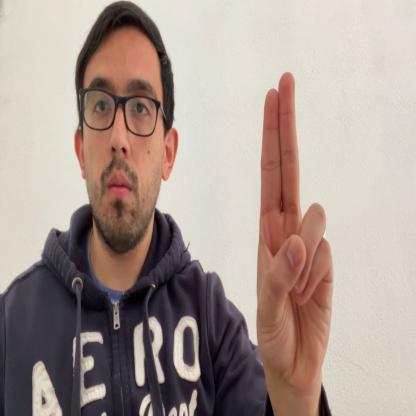U: (257, 70, 334, 388)
